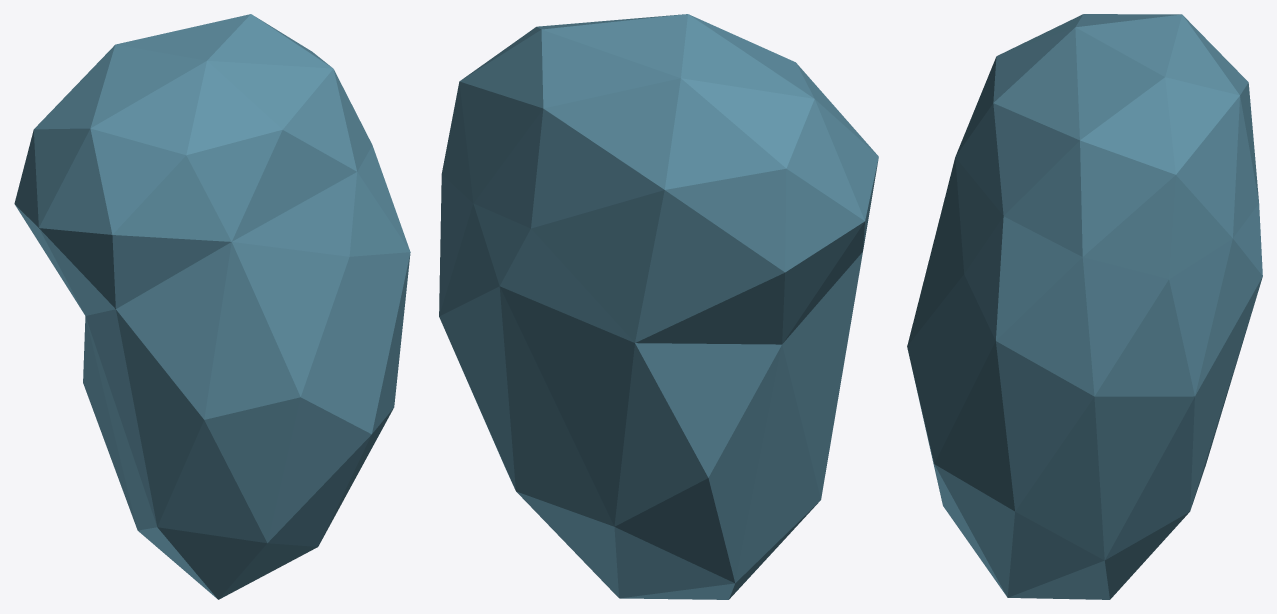
Rendered from ITAT_ICEGOLEM_01.OBJ.
The picture shows the model from 3 angles, left to right: view 1: azimuth 30°, elevation 25°; view 2: azimuth 150°, elevation 25°; view 3: azimuth 270°, elevation 25°; orthographic projection. The views are drawn at different scales.
Parts seen in each view (by area): view 1: ITAT_ICEGOLEM_01; view 2: ITAT_ICEGOLEM_01; view 3: ITAT_ICEGOLEM_01.
Part boxes in pixels (<box>): ITAT_ICEGOLEM_01: <box>14,14,410,599</box>; ITAT_ICEGOLEM_01: <box>439,14,878,599</box>; ITAT_ICEGOLEM_01: <box>907,14,1262,599</box>.
Size of the model in its own units: 0.2162 by 0.3053 by 0.1735.
